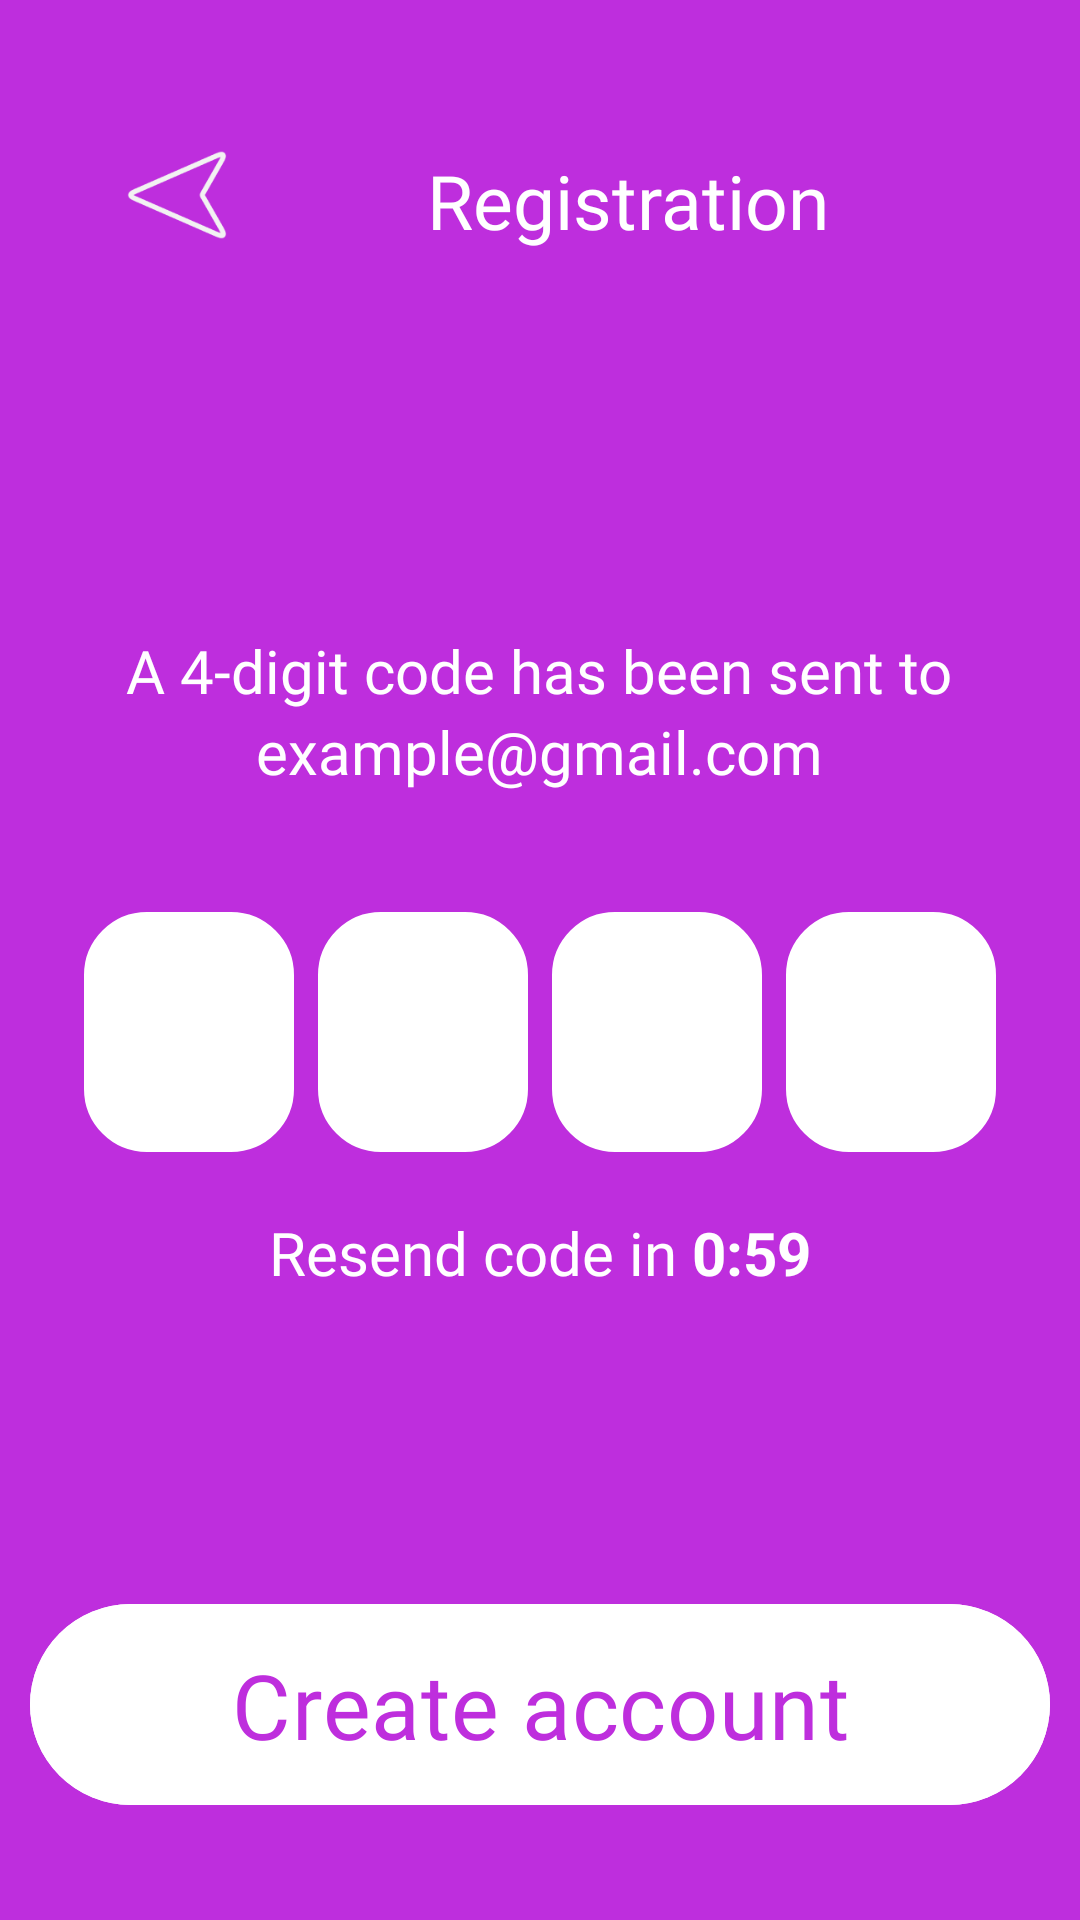

Locate icon controls on the screen. Image size 1080 x 1920, boxes as [x1=x1, y1=y1, x2=x2, y2=y2].
back: [x1=128, y1=151, x2=226, y2=239]
